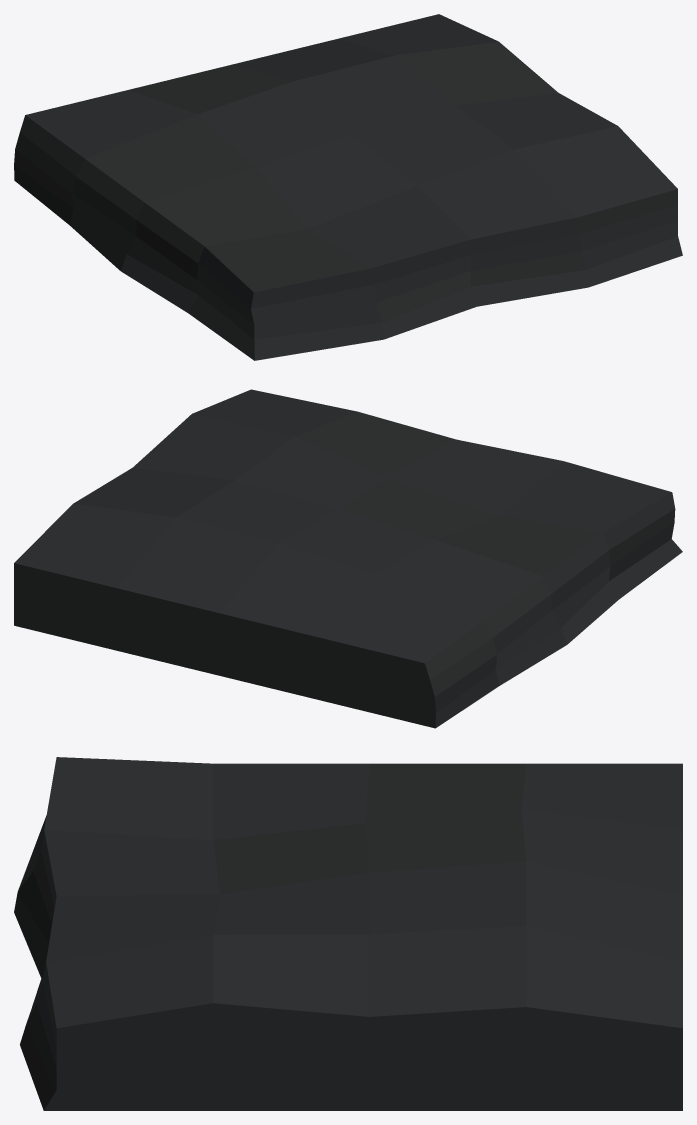
The model's file is Platform.fbx.
3 renders of one model, top to bottom at view 1: azimuth 30°, elevation 25°; view 2: azimuth 150°, elevation 25°; view 3: azimuth 270°, elevation 25°, orthographic. The views are drawn at different scales.
Visible parts, largest first — view 1: Cube.028; view 2: Cube.028; view 3: Cube.028.
Part boxes in pixels (x1=…): Cube.028: x1=14, y1=14, x2=682, y2=360; Cube.028: x1=14, y1=389, x2=682, y2=728; Cube.028: x1=14, y1=757, x2=682, y2=1110.
Bounding box in the file's own units: 7.4 × 1.46 × 7.48.
